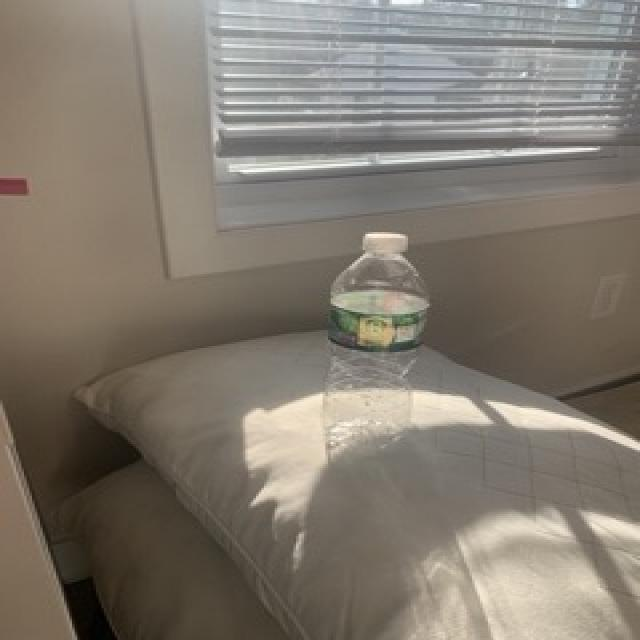water_bottle: (320, 229, 434, 448)
